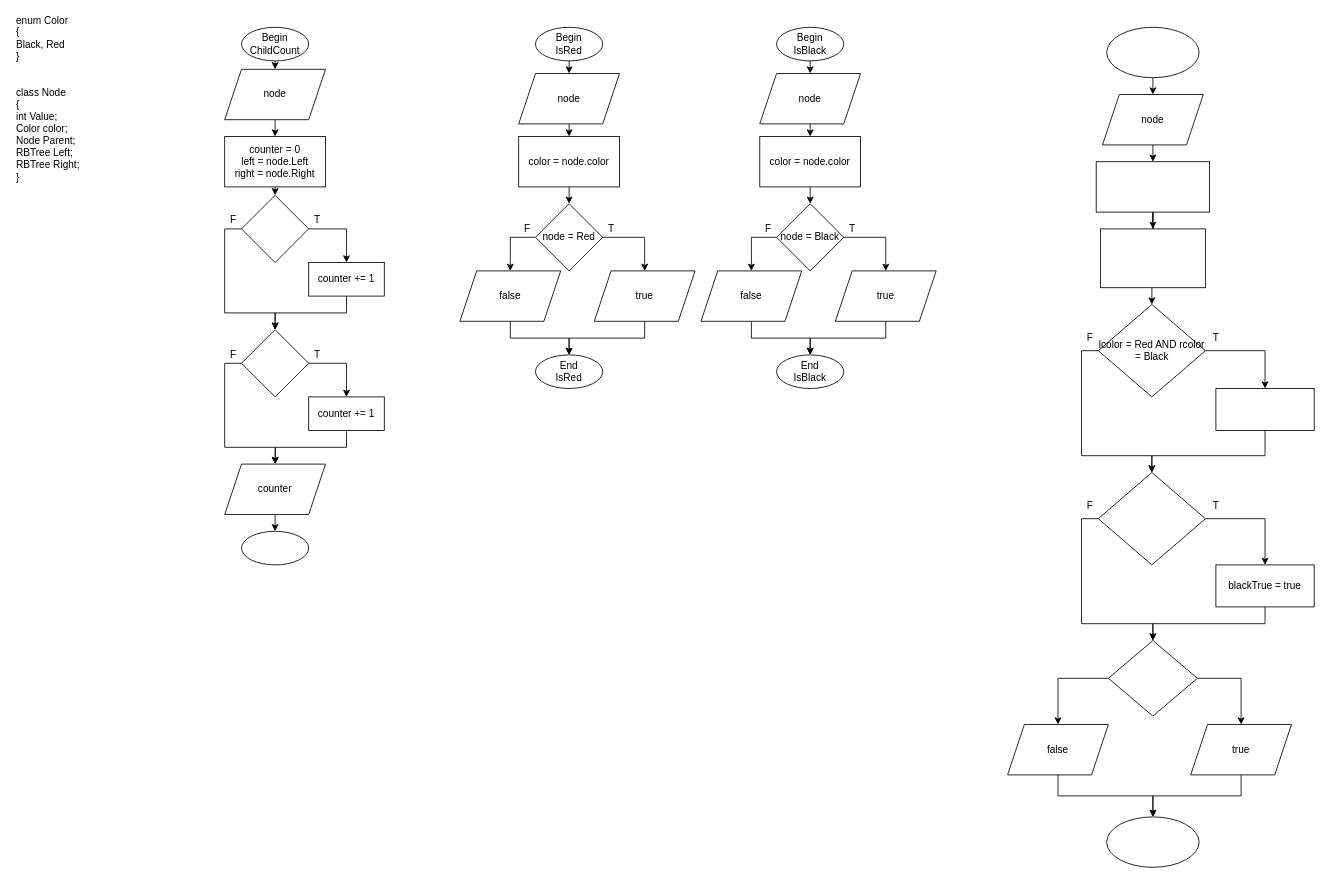
This 1329x882 diagram has some shape labels left out. Here are the shapes that lost their labels. From the top down, the box of each, then its label:
(1106, 26, 1199, 78): Begin ChildMulricolored
(1095, 161, 1210, 212): left = node.Left.Root right = node.Right.Root
(241, 194, 309, 262): left != null
(1100, 228, 1205, 288): blackRed = false redBlack = false lcolor = left.color rcolor = right.color
(241, 329, 309, 397): right != null
(1215, 388, 1314, 430): redBlack = true
(1097, 472, 1205, 565): lcolor = Black AND rcolor = Red
(241, 530, 309, 565): End ChildCount
(1108, 640, 1197, 716): blackRed OR redBlack
(1106, 816, 1199, 867): End ChildMulricolored
